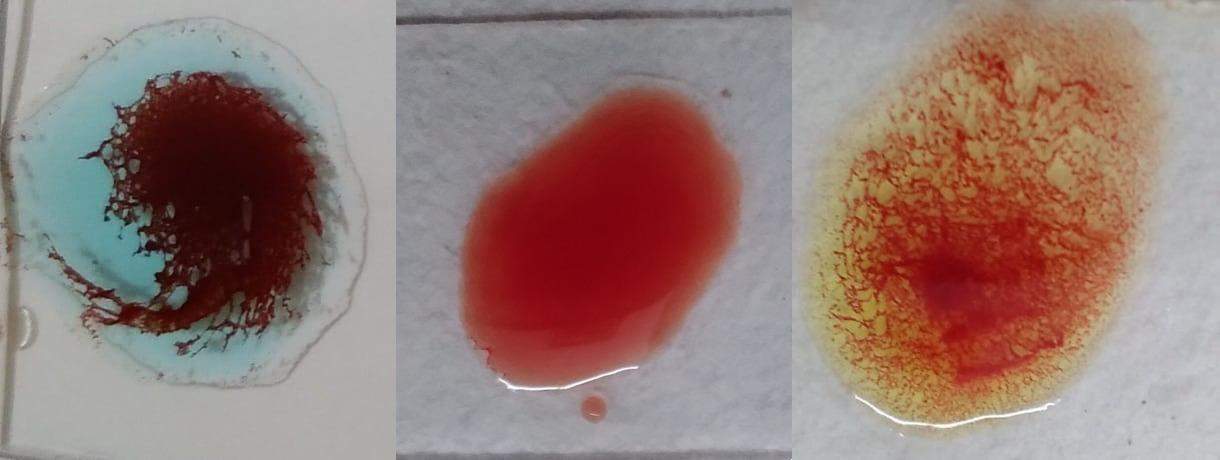A: (22, 19, 360, 392)
B: (816, 12, 1146, 427)
